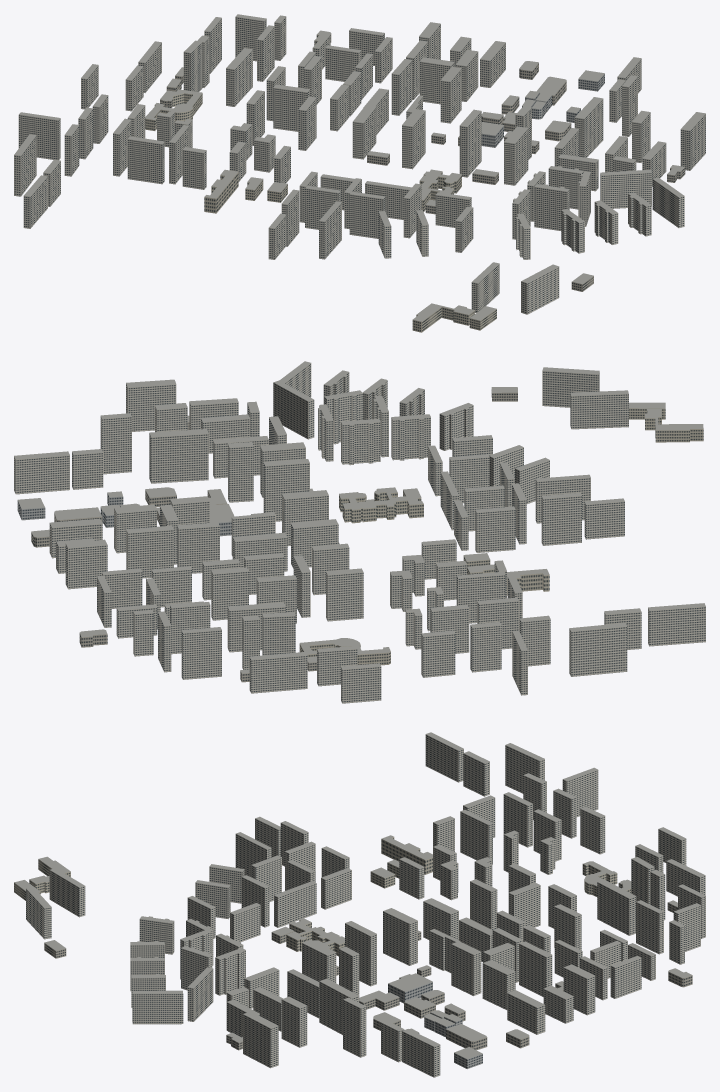
3 views of the same model, one above another, from view 1: azimuth 30°, elevation 25°; view 2: azimuth 150°, elevation 25°; view 3: azimuth 270°, elevation 25° (orthographic). The views are drawn at different scales.
Parts seen in each view (by area): view 1: ctx-apartments, ctx-roof, ctx-school, ctx-other, ctx-commercial; view 2: ctx-apartments, ctx-roof, ctx-school, ctx-other, ctx-commercial; view 3: ctx-apartments, ctx-roof, ctx-other, ctx-school, ctx-commercial.
Part boxes in pixels (x1=…): ctx-apartments: x1=14, y1=16, x2=705, y2=314; ctx-roof: x1=14, y1=14, x2=705, y2=321; ctx-school: x1=145, y1=93, x2=496, y2=332; ctx-other: x1=160, y1=33, x2=685, y2=291; ctx-commercial: x1=481, y1=74, x2=604, y2=147; ctx-apartments: x1=14, y1=363, x2=705, y2=703; ctx-roof: x1=14, y1=361, x2=705, y2=673; ctx-school: x1=299, y1=408, x2=703, y2=665; ctx-other: x1=31, y1=389, x2=517, y2=682; ctx-commercial: x1=17, y1=493, x2=231, y2=536; ctx-apartments: x1=26, y1=734, x2=705, y2=1077; ctx-roof: x1=14, y1=732, x2=705, y2=1059; ctx-other: x1=44, y1=883, x2=692, y2=1050; ctx-school: x1=14, y1=837, x2=631, y2=956; ctx-commercial: x1=388, y1=981, x2=482, y2=1068.
Bounding box in the file's own units: 989 × 80.82 × 964.
Materials: 5 (4 with a texture image).
